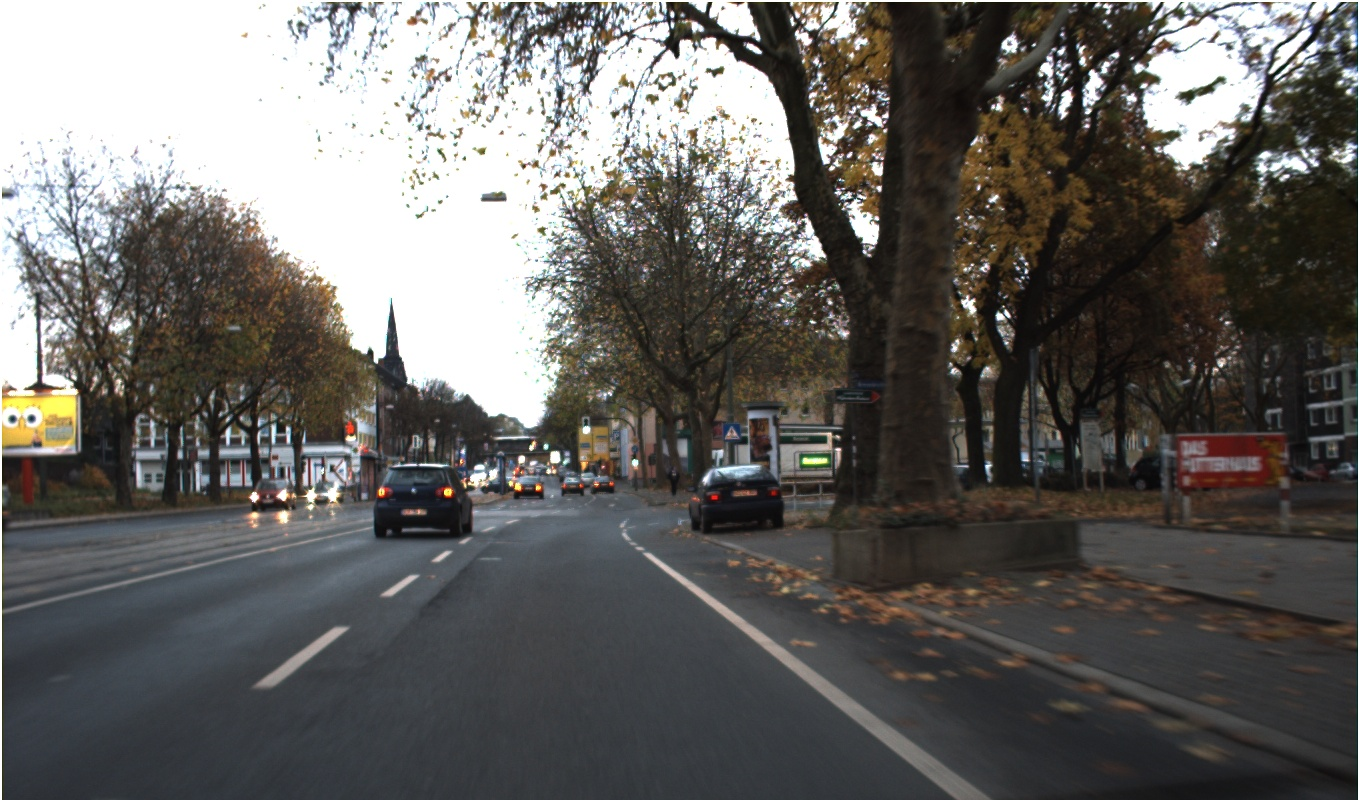Priority road: (721, 381, 749, 408)
Turn left ahead: (293, 427, 315, 450)
Turn right ahead: (756, 402, 782, 430)
